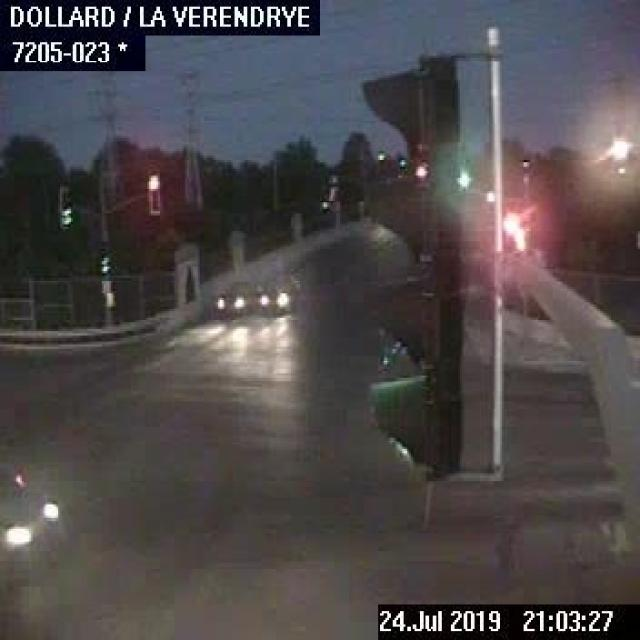vehicle: (0, 459, 56, 564), (256, 274, 299, 317), (209, 278, 246, 318)
